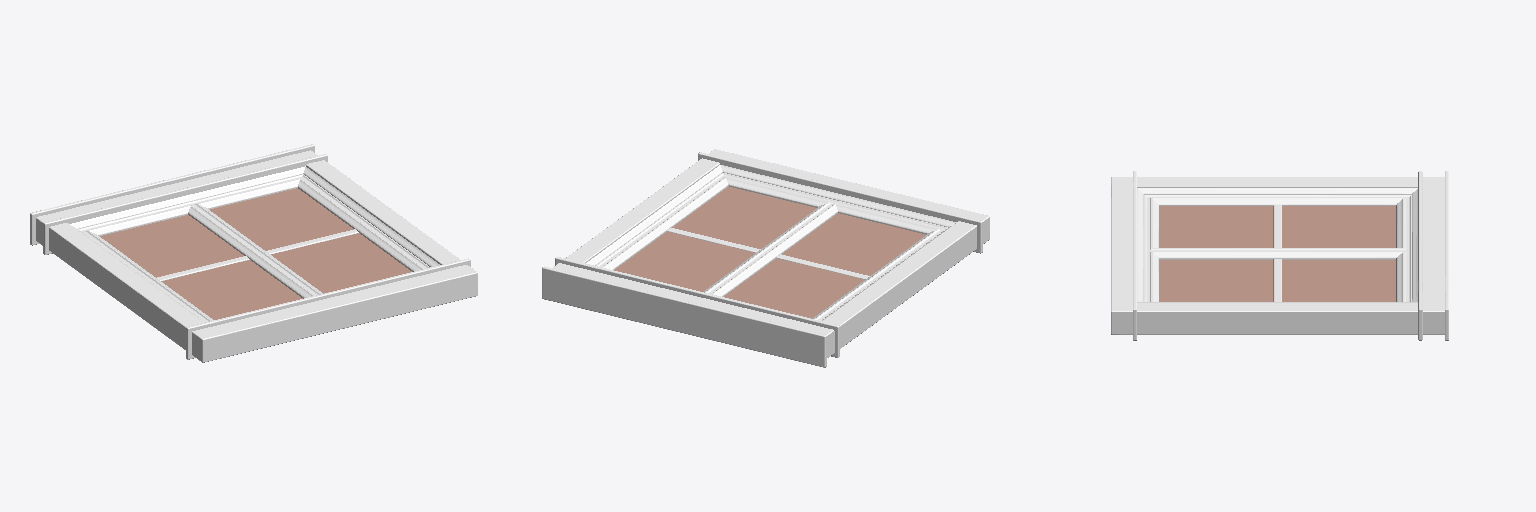
The model's file is raw_model.obj.
The picture shows the model from 3 angles: view 1: azimuth 30°, elevation 25°; view 2: azimuth 150°, elevation 25°; view 3: azimuth 270°, elevation 25°; orthographic projection.
Visible parts, largest first — view 1: External_Frame_Square, Internal_Frame_Square, Glass_Square.002, Glass_Square.003, Glass_Square.001, Glass_Square; view 2: External_Frame_Square, Internal_Frame_Square, Glass_Square.001, Glass_Square, Glass_Square.003, Glass_Square.002; view 3: External_Frame_Square, Internal_Frame_Square, Glass_Square, Glass_Square.001, Glass_Square.002, Glass_Square.003.
Part boxes in pixels (bbox=[...]): External_Frame_Square: bbox=[30, 144, 477, 362]; Internal_Frame_Square: bbox=[70, 166, 439, 322]; Glass_Square.002: bbox=[210, 188, 353, 250]; Glass_Square.003: bbox=[100, 215, 243, 277]; Glass_Square.001: bbox=[161, 260, 302, 319]; Glass_Square: bbox=[271, 233, 411, 293]; External_Frame_Square: bbox=[542, 149, 989, 367]; Internal_Frame_Square: bbox=[586, 165, 956, 320]; Glass_Square.001: bbox=[782, 213, 925, 275]; Glass_Square: bbox=[672, 186, 816, 248]; Glass_Square.003: bbox=[724, 258, 863, 318]; Glass_Square.002: bbox=[614, 232, 754, 291]; External_Frame_Square: bbox=[1111, 171, 1448, 340]; Internal_Frame_Square: bbox=[1137, 188, 1417, 301]; Glass_Square: bbox=[1159, 260, 1272, 301]; Glass_Square.001: bbox=[1159, 206, 1272, 247]; Glass_Square.002: bbox=[1282, 260, 1395, 301]; Glass_Square.003: bbox=[1282, 206, 1395, 247].
Size of the model in its own units: 1.48 by 0.1587 by 1.53.